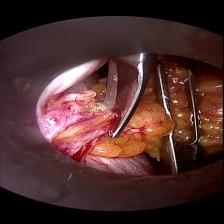Grasper: (156, 56, 210, 182)
Scissors: (96, 52, 160, 138)
